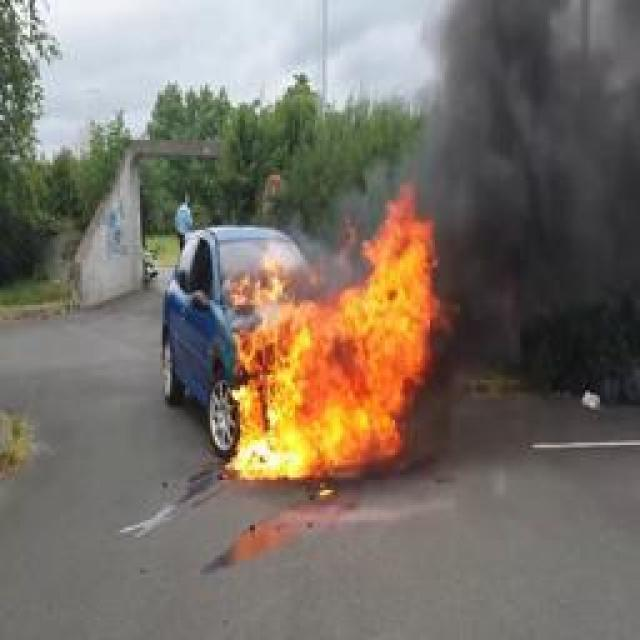Fire: (225, 181, 448, 479)
